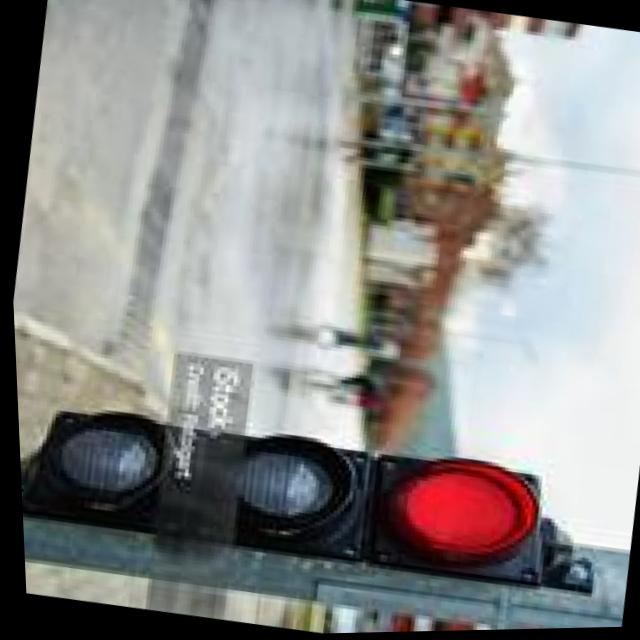red_light: (306, 410, 586, 635)
